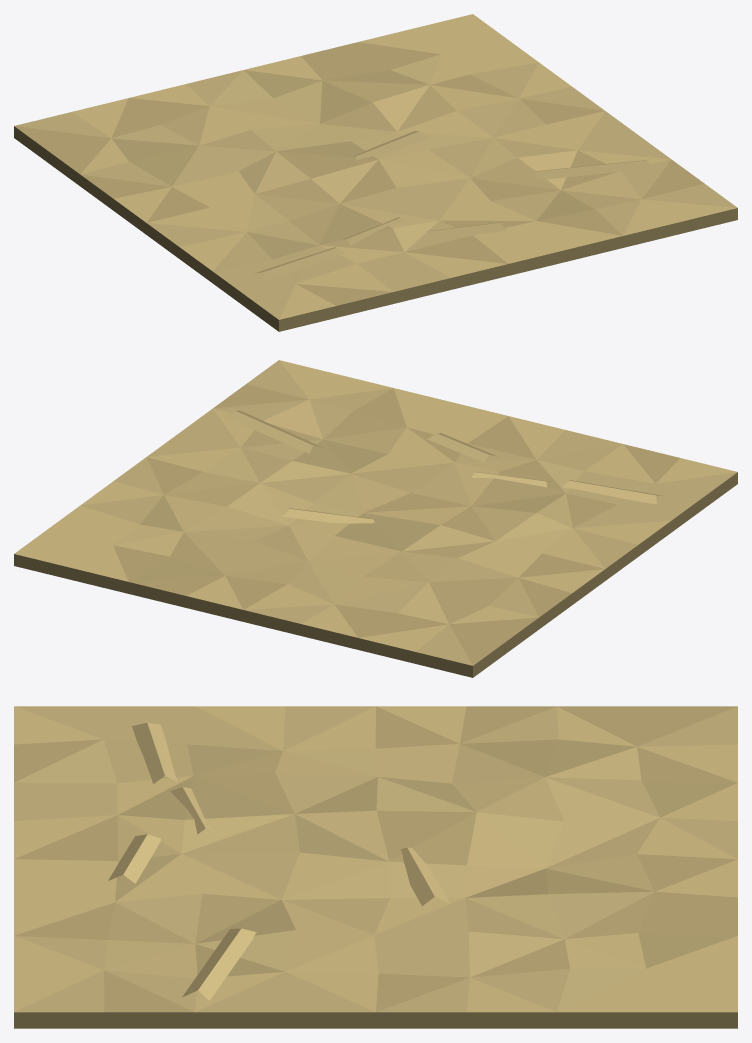
Rendered from ground_sand_a.glb.
The picture shows the model from 3 angles, top to bottom: view 1: azimuth 30°, elevation 25°; view 2: azimuth 150°, elevation 25°; view 3: azimuth 270°, elevation 25°; orthographic projection. The views are drawn at different scales.
Visible parts, largest first — view 1: ground_sand_a; view 2: ground_sand_a; view 3: ground_sand_a.
Boxes of the visible parts, x1,y1,x2,y2 form: ground_sand_a: (14,14,737,331); ground_sand_a: (14,360,737,677); ground_sand_a: (14,706,737,1028).
Bounding box in the file's own units: 4 × 0.135 × 4.
